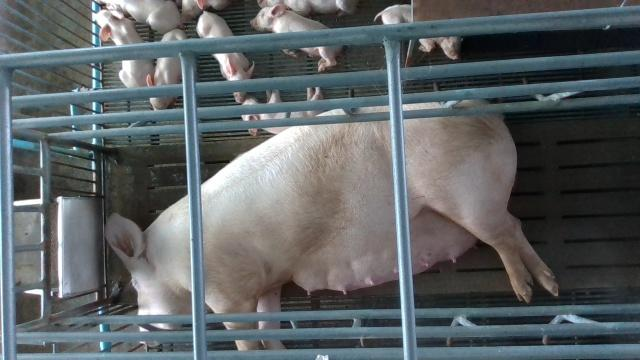piglet: (249, 4, 344, 72), (197, 11, 255, 103), (373, 4, 463, 60), (95, 9, 155, 88), (241, 86, 325, 136), (146, 28, 188, 111), (102, 0, 183, 34)
sow-sleep-lactate: (106, 98, 558, 351)
